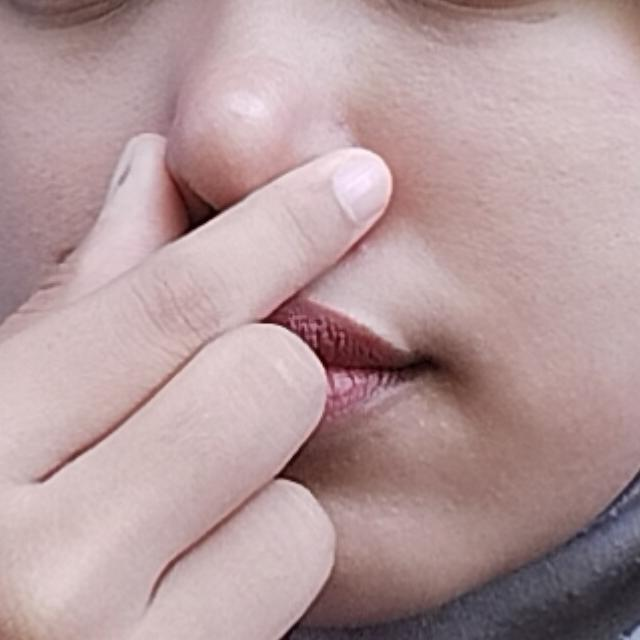bau: (0, 68, 486, 640)
